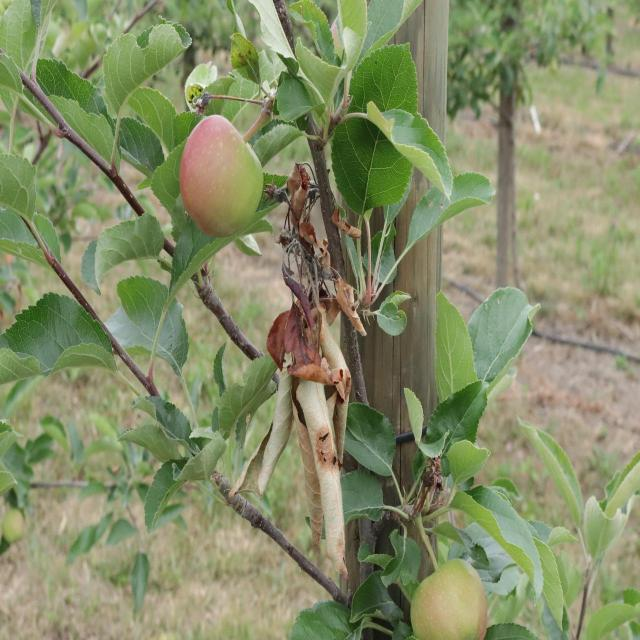-FireBlight-: (267, 168, 365, 394)
